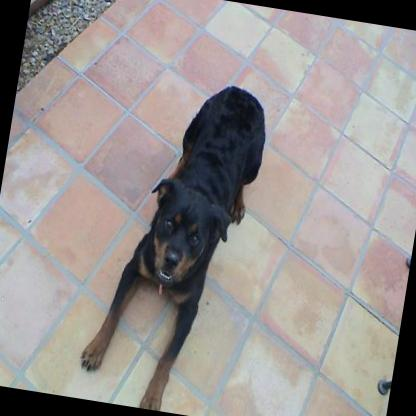Rottweiler: (72, 68, 273, 416)
